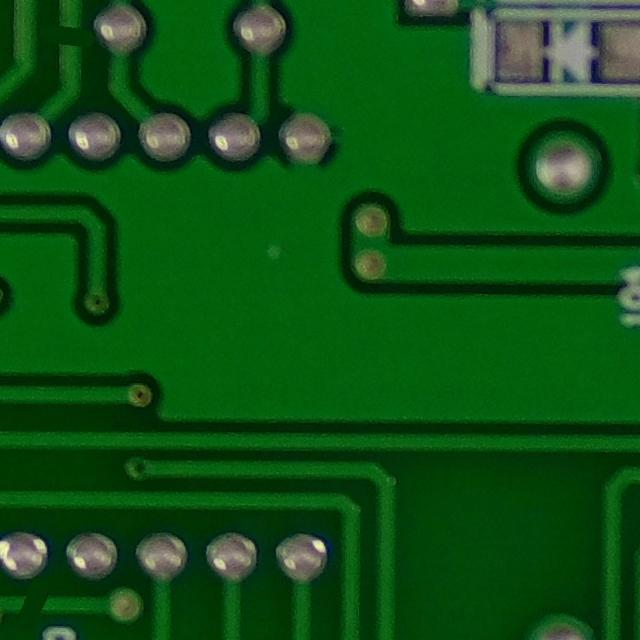open_circuit: (49, 15, 90, 57), (9, 587, 54, 623)
